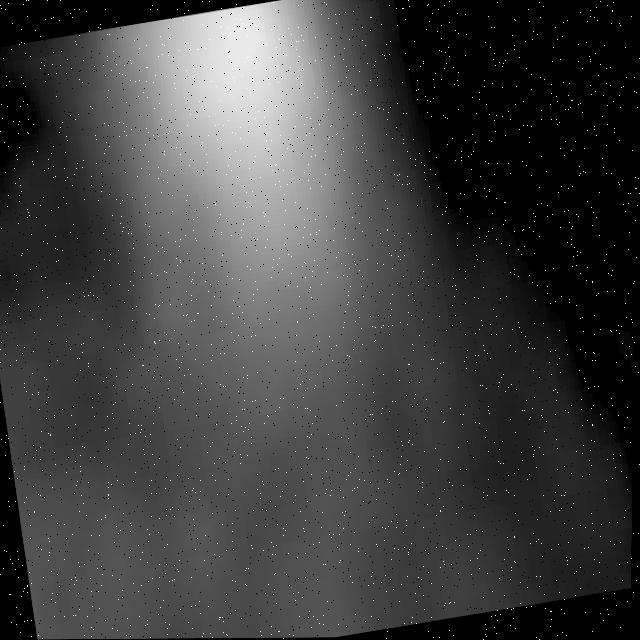person: (108, 1, 382, 425)
